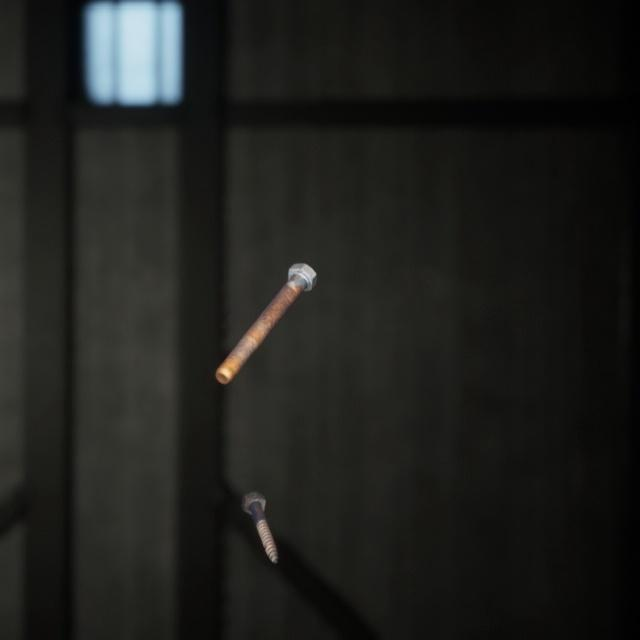bolt: (211, 240, 321, 369), (238, 464, 282, 544)
